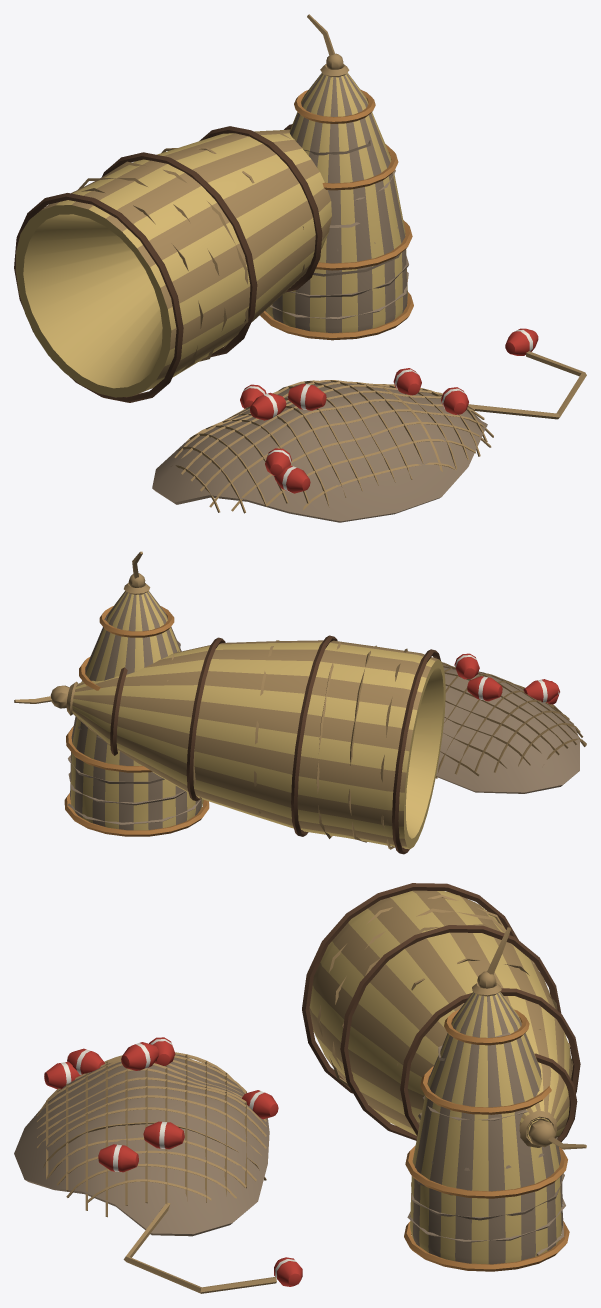
File: deco_fish_trap.fbx
The picture shows the model from 3 angles, top to bottom: view 1: azimuth 30°, elevation 25°; view 2: azimuth 150°, elevation 25°; view 3: azimuth 270°, elevation 25°; orthographic projection. The views are drawn at different scales.
Visible parts, largest first — view 1: FishTrap_TrapLarge, FishTrap_Net, FishTrap_TrapSmall; view 2: FishTrap_TrapLarge, FishTrap_TrapSmall, FishTrap_Net; view 3: FishTrap_TrapLarge, FishTrap_Net, FishTrap_TrapSmall.
Boxes of the visible parts, x1,y1,x2,y2 form: FishTrap_TrapLarge: (14, 124, 331, 402); FishTrap_Net: (152, 328, 586, 522); FishTrap_TrapSmall: (260, 14, 413, 340); FishTrap_TrapLarge: (14, 635, 445, 854); FishTrap_TrapSmall: (64, 551, 209, 836); FishTrap_Net: (435, 653, 586, 793); FishTrap_TrapLarge: (302, 883, 586, 1149); FishTrap_Net: (14, 1037, 302, 1293); FishTrap_TrapSmall: (404, 927, 569, 1271).
Bounding box in the file's own units: 214 × 136 × 231.
